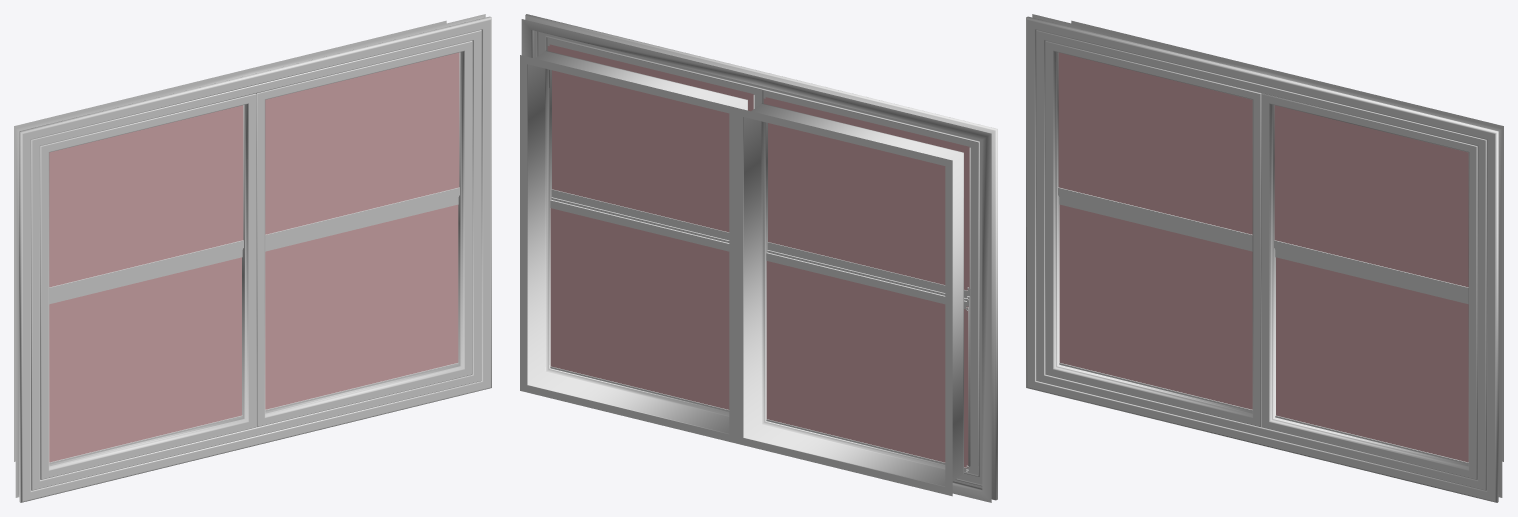
File: WindowDoubleSlider.fbx
3 renders of one model, left to right at view 1: azimuth 30°, elevation 25°; view 2: azimuth 150°, elevation 25°; view 3: azimuth 330°, elevation 25°, orthographic.
Parts seen in each view (by area): view 1: Window_LOD0, Slider.001, Slider; view 2: Window_LOD0, Slider, Slider.001; view 3: Window_LOD0, Slider, Slider.001.
Boxes of the visible parts, x1=… form: Window_LOD0: x1=14, y1=14, x2=491, y2=502; Slider.001: x1=265, y1=197, x2=458, y2=411; Slider: x1=49, y1=249, x2=242, y2=464; Window_LOD0: x1=520, y1=14, x2=997, y2=502; Slider: x1=766, y1=250, x2=968, y2=472; Slider.001: x1=550, y1=197, x2=729, y2=411; Window_LOD0: x1=1026, y1=14, x2=1503, y2=502; Slider: x1=1059, y1=197, x2=1252, y2=411; Slider.001: x1=1275, y1=249, x2=1468, y2=464.
Size of what is drawn, in the model's own units: 504 by 379 by 49.03.
